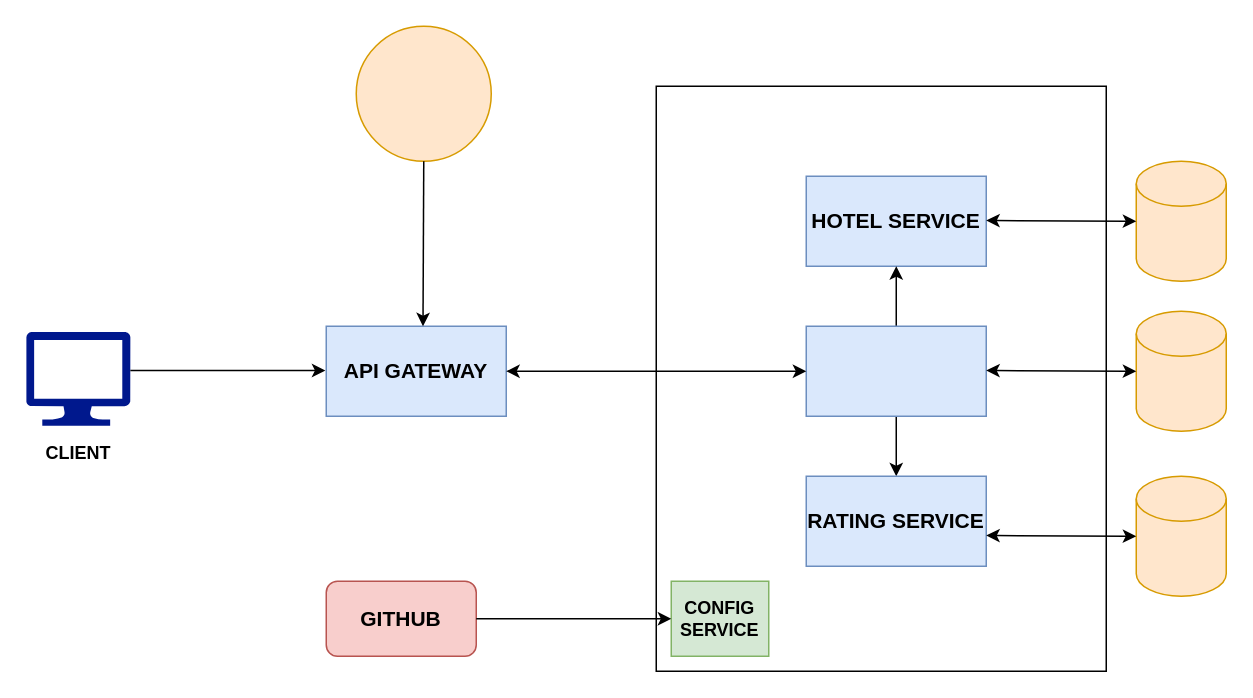
The diagram is 1253 pixels wide and 698 high, and some of its shapes have lost their labels. Here are the shapes that lost their labels. From the top down, the box of each, then its label:
(355, 25, 491, 161): SECURITY OKTA AUTH
(805, 325, 986, 416): USER SERVICE
